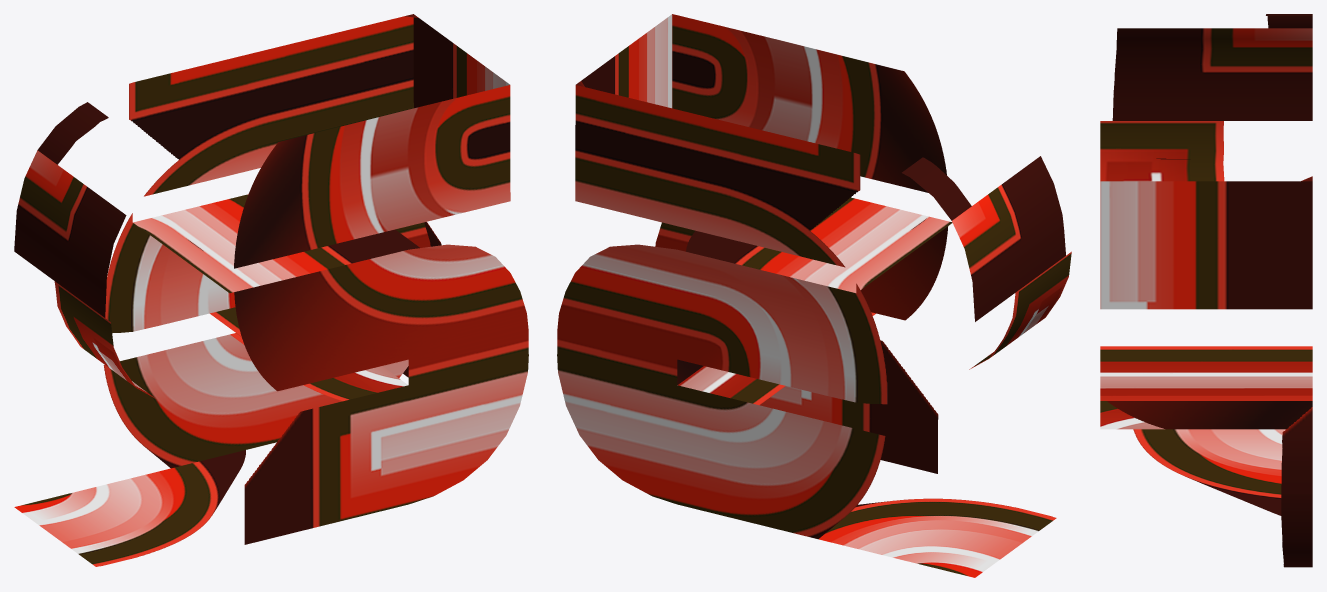
The picture shows the model from 3 angles, left to right: view 1: azimuth 30°, elevation 25°; view 2: azimuth 150°, elevation 25°; view 3: azimuth 270°, elevation 25°; orthographic projection. The views are drawn at different scales.
Parts seen in each view (by area): view 1: s; view 2: s; view 3: s.
Part boxes in pixels (x1,y1,x2,y2): s: [14, 14, 528, 566]; s: [557, 14, 1071, 577]; s: [1100, 14, 1312, 567].
Size of the model in its own units: 26.5 by 23.98 by 10.63.
Materials: 1 (1 with a texture image).
